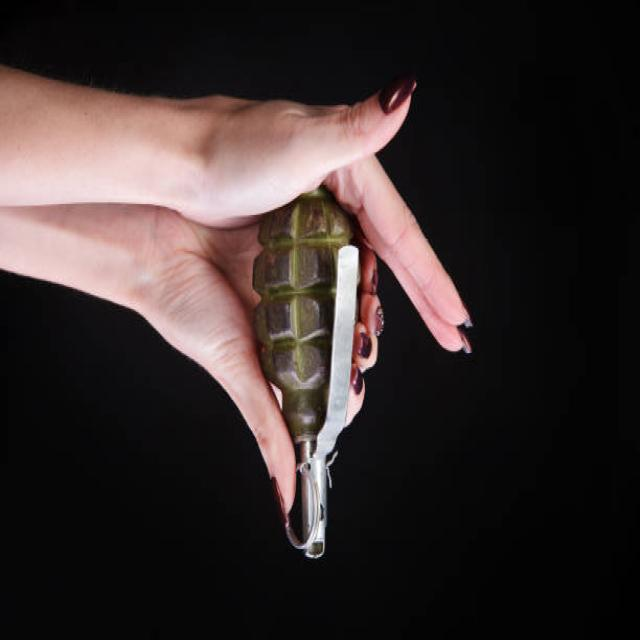grenade: (251, 187, 363, 569)
